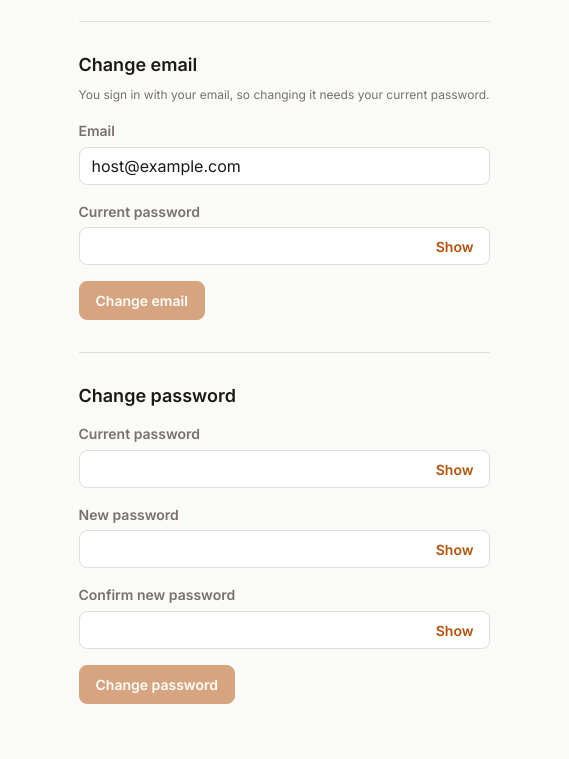
Test: changing the password › sends the current and new password, then says other devices were signed out
The width and height of the screenshot is (569, 759).
(page scrolled)
Type "correct-horse" into the 2nd password field labelled "Current password".
click(284, 469); type("correct-horse")  # box top-left (78, 450), bottom-right (490, 488)
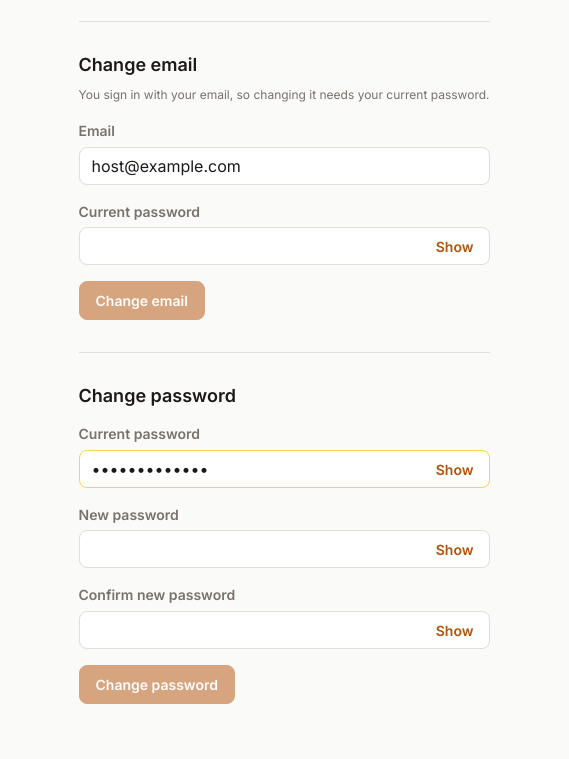
Type "a-new-long-passphrase" into the password field labelled "New password".
click(284, 549); type("a-new-long-passphrase")  # box top-left (78, 530), bottom-right (490, 568)
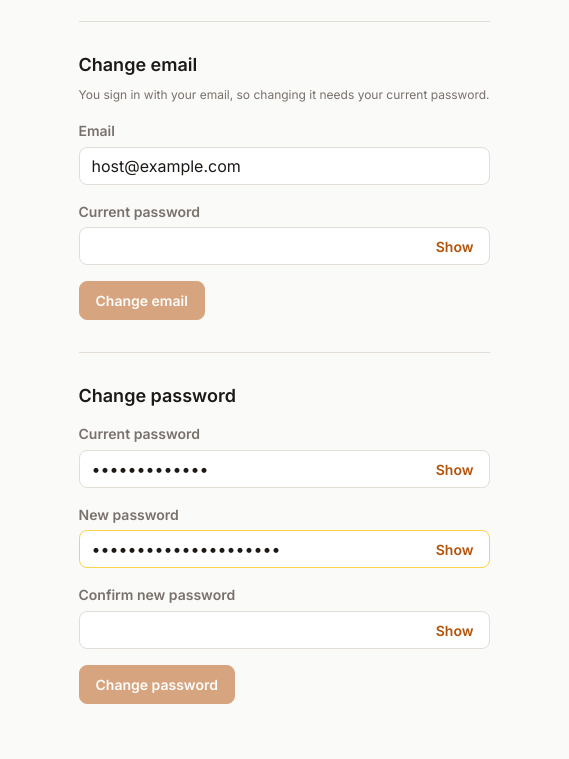
Type "a-new-long-passphrase" into the password field labelled "Confirm new password".
click(284, 630); type("a-new-long-passphrase")  # box top-left (78, 611), bottom-right (490, 649)
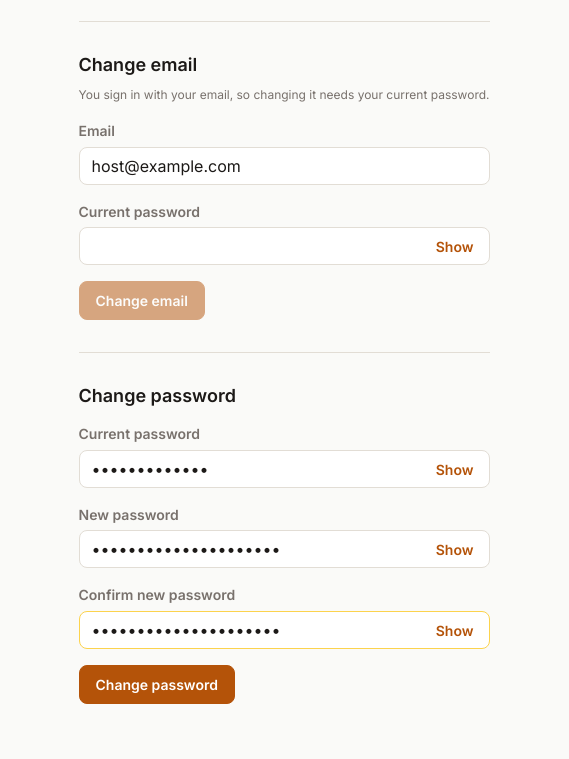
Click the button "Change password".
click(157, 684)  # box top-left (78, 665), bottom-right (235, 704)
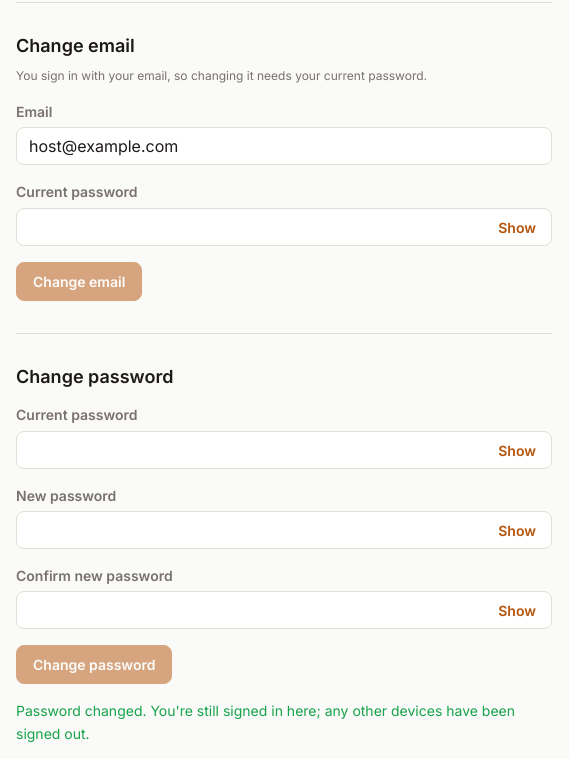
Expected: the message shows "other devices have been signed out", top-left (16, 702), bottom-right (515, 742)
Expected: the 2nd password field labelled "Current password" is empty, top-left (16, 431), bottom-right (552, 469)
